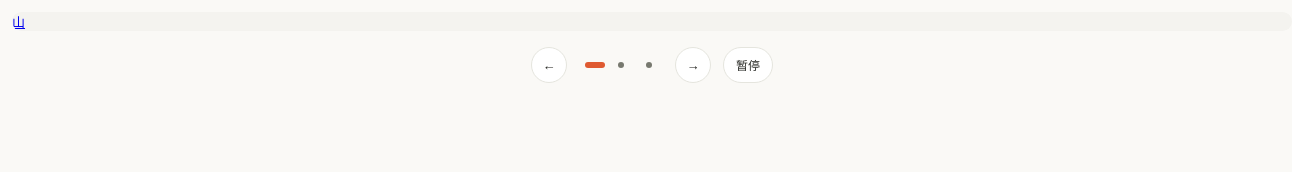
Test: reduced motion prevents autoplay and horizontal swipes navigate
Check: the link reads "山", box 12,14 -> 25,31
Press the mouse on the element with class "ray-carousel__viewport" at (652, 22), box 12,12 -> 1291,31
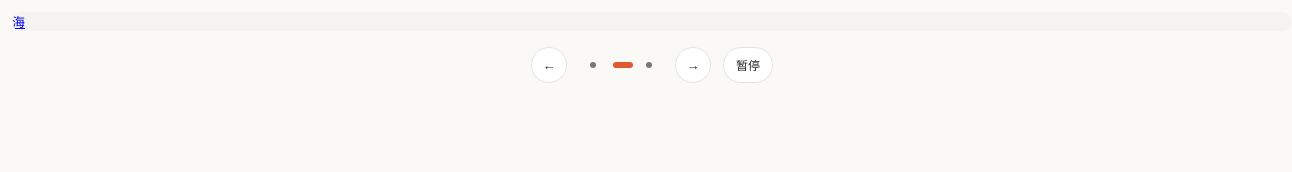
Check: the link reads "海", box 12,14 -> 25,31
